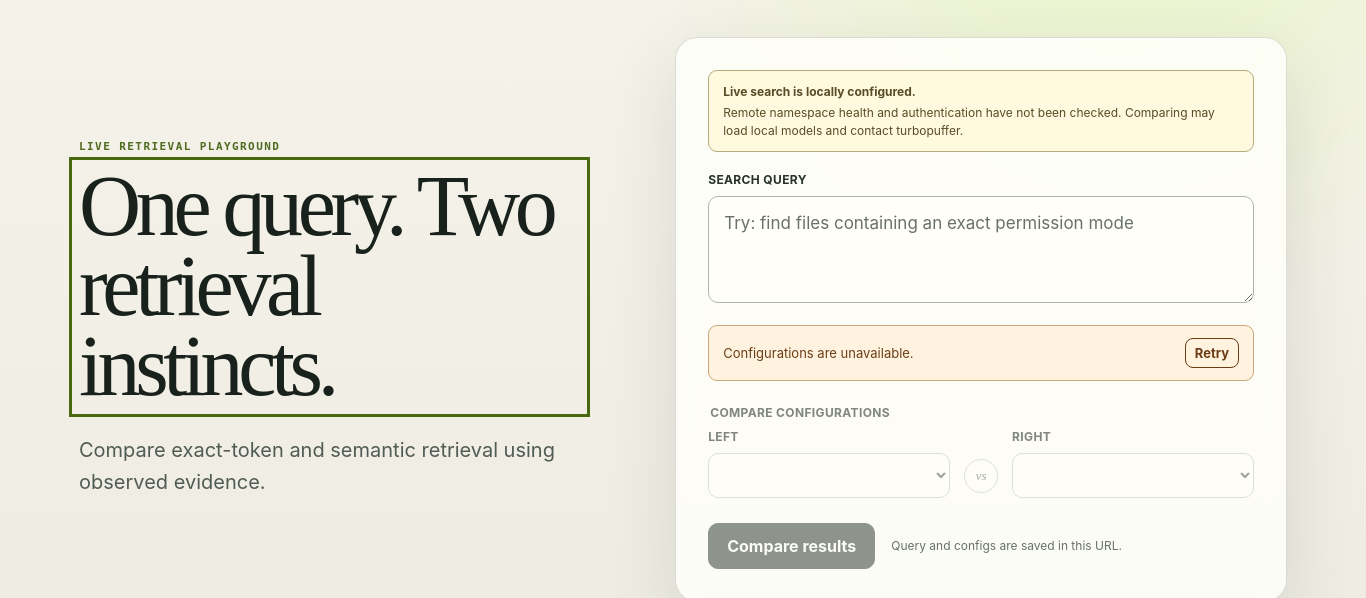
Test: App playground › supports config-load retry and an empty compare response
Expected: the text "Configurations are unavailable." is shown, [723,345,914,361]
Click the button "Retry".
click(1212, 353)  # box [1185,338,1239,368]
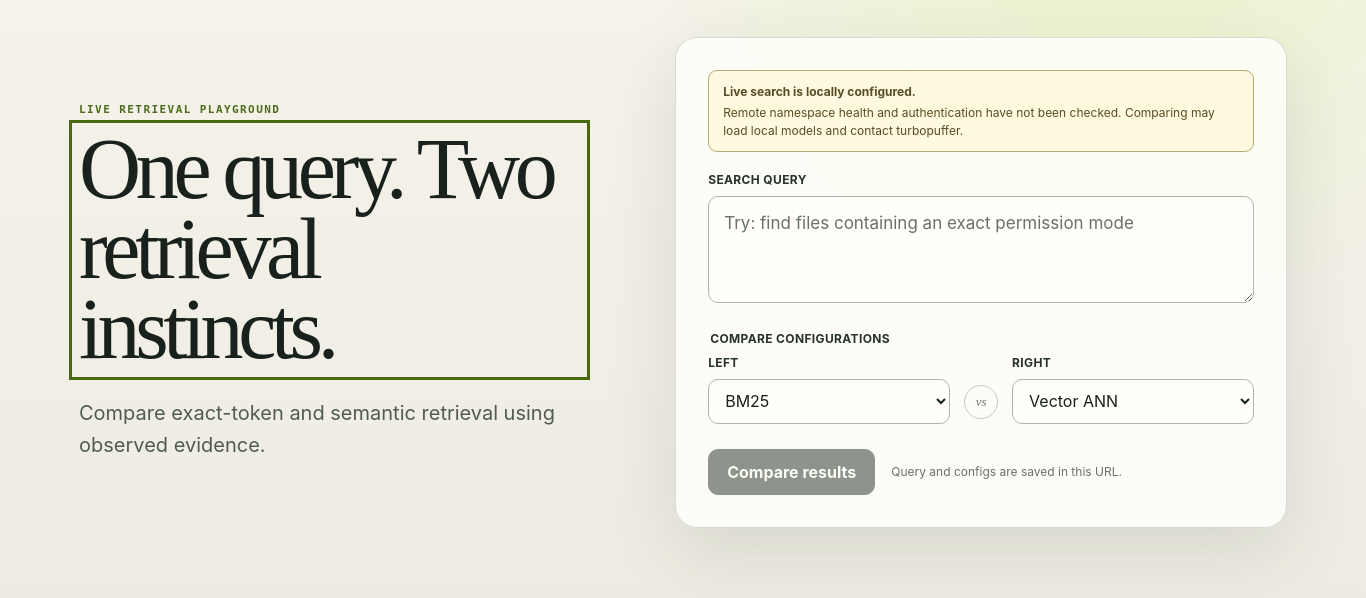
Type "no matches" into the text box labelled "Search query".
click(981, 249); type("no matches")  # box [708,196,1254,303]
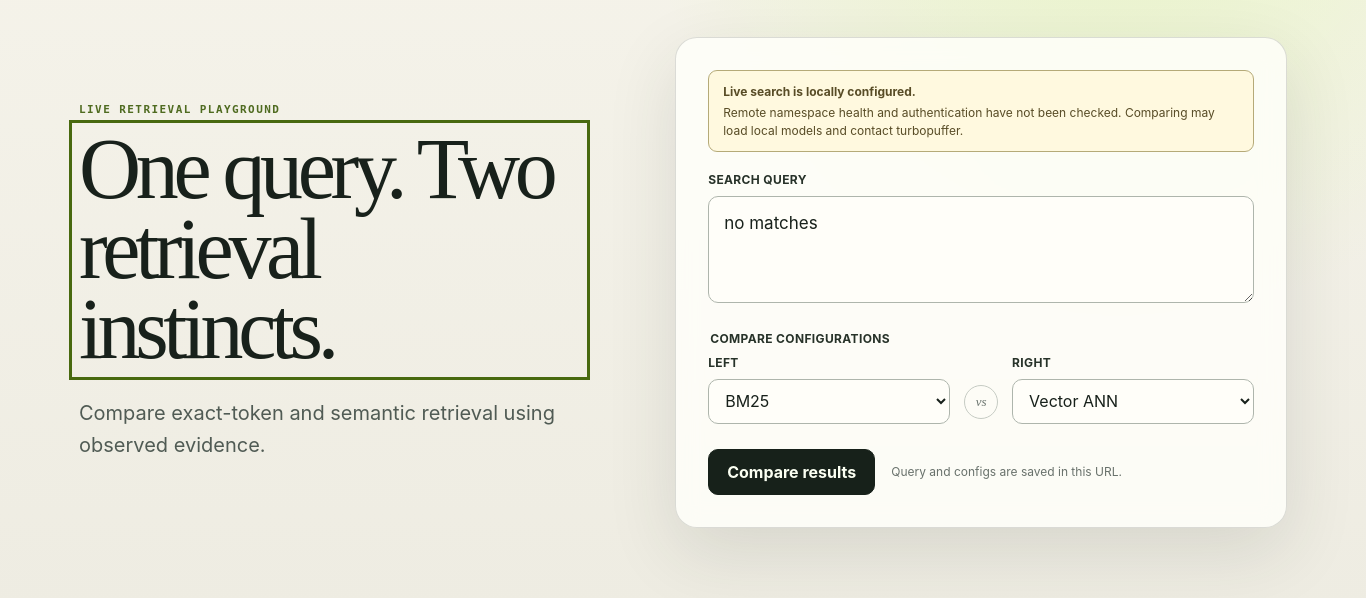
Click the button "Compare results".
click(792, 472)  # box [708,449,875,495]
(page scrolled)
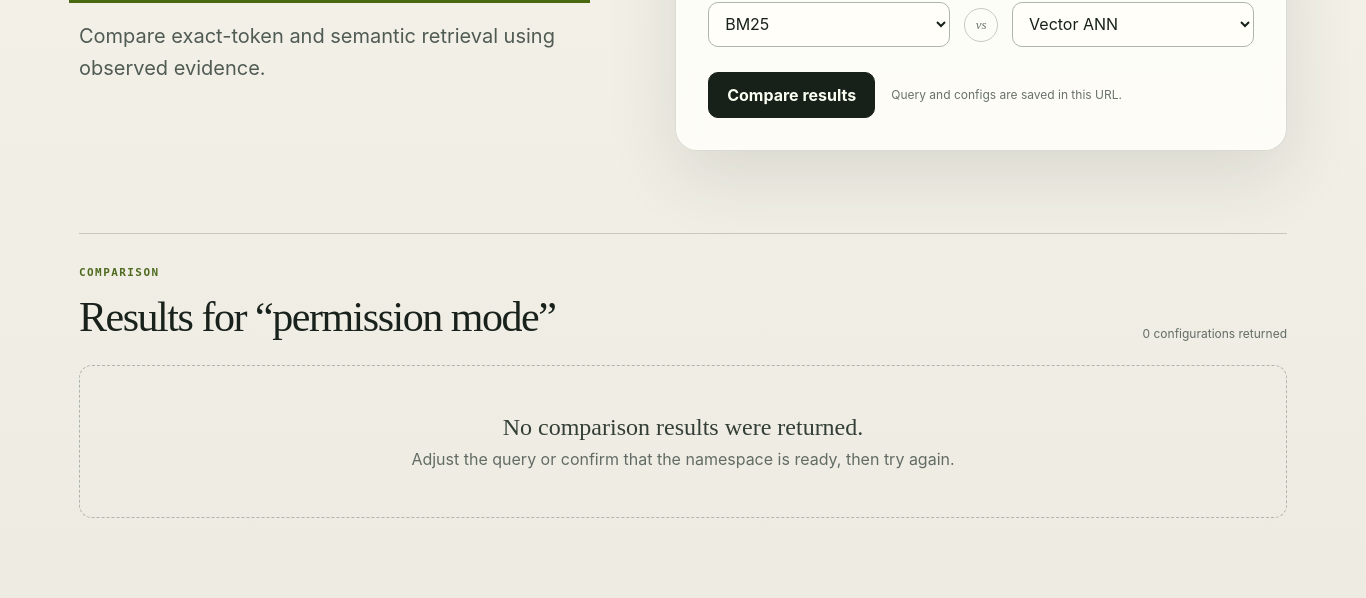
Expected: the heading "No comparison results were returned." is shown, [503,414,863,440]
